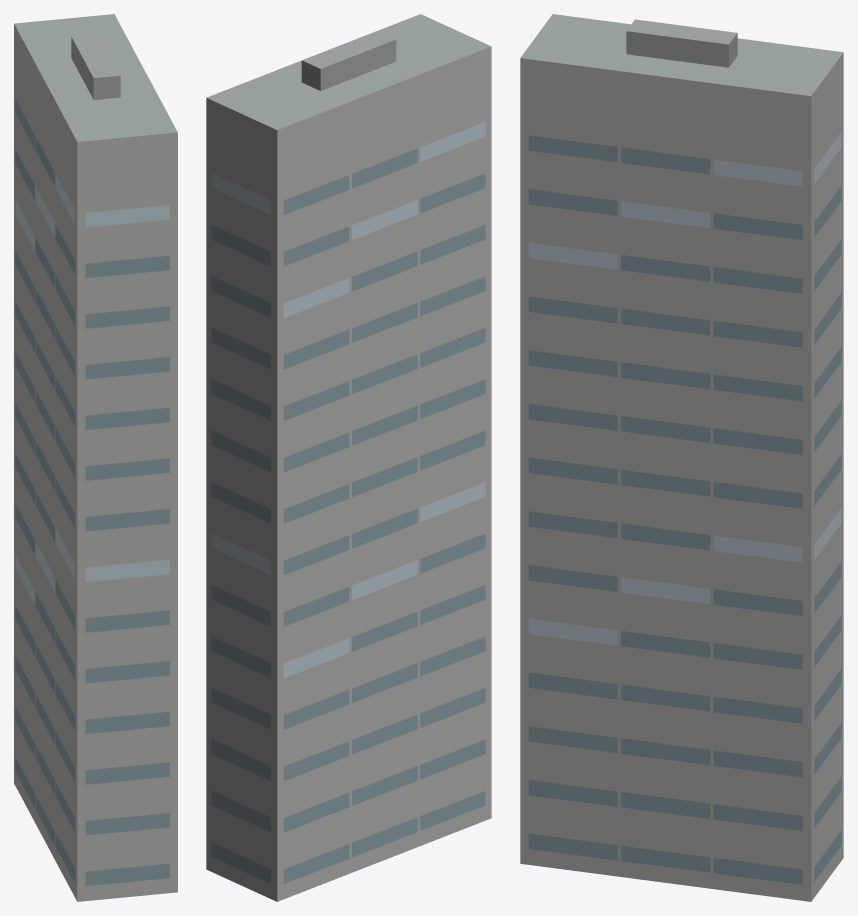
Rendered from fallback-olympic-park-foreon-116.glb.
3 views of the same model, side by side, from view 1: azimuth 30°, elevation 25°; view 2: azimuth 150°, elevation 25°; view 3: azimuth 270°, elevation 25° (orthographic). The views are drawn at different scales.
Parts seen in each view (by area): view 1: fallback-olympic-park-foreon-116; view 2: fallback-olympic-park-foreon-116; view 3: fallback-olympic-park-foreon-116.
Boxes of the visible parts, <box> form: fallback-olympic-park-foreon-116: <box>14,14,177,901</box>; fallback-olympic-park-foreon-116: <box>206,14,491,901</box>; fallback-olympic-park-foreon-116: <box>520,14,843,901</box>.
Bounding box in the file's own units: 18.31 × 86 × 30.41.
